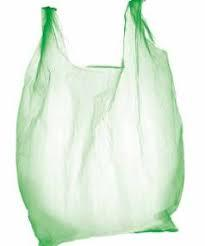Plastic bag: (22, 6, 197, 246)
